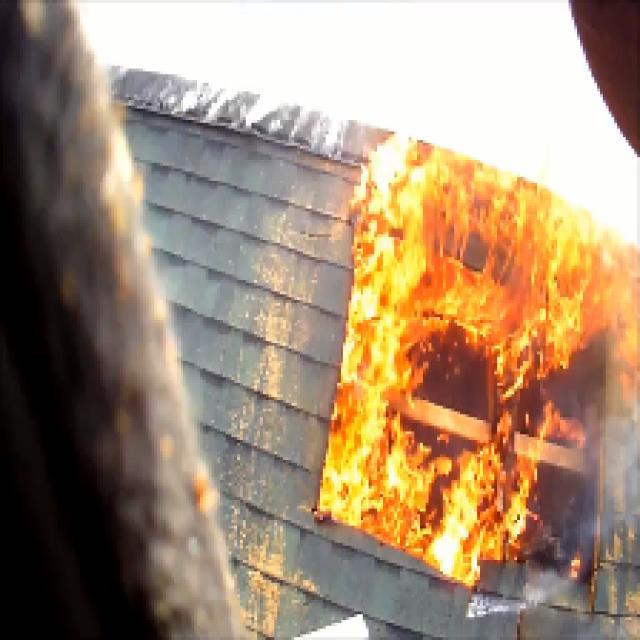Fire: (359, 145, 567, 564)
